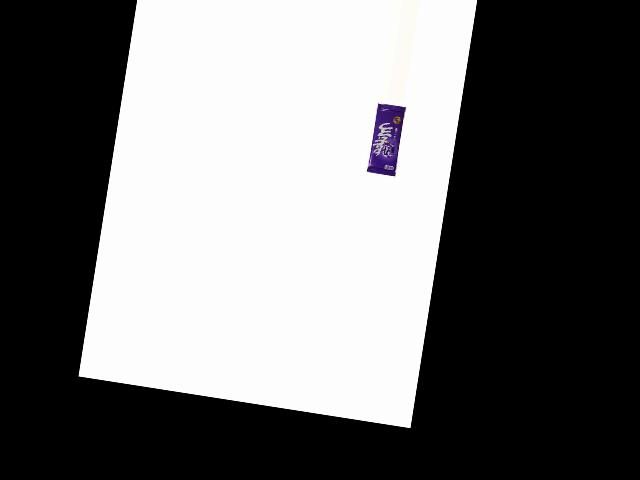chocolate: (364, 102, 409, 180)
